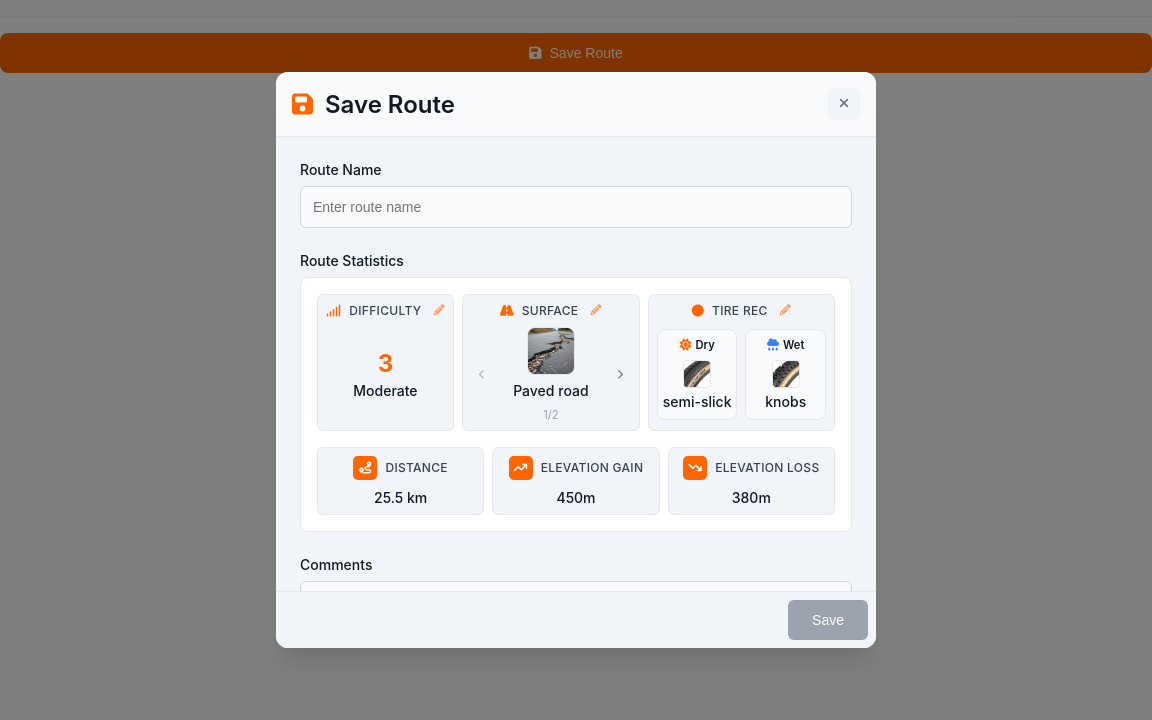
Test case: RouteSaveModal › Form Validation › should enable save button when route name is filled
Type "Test Route" into the field with id "route-name" at (576, 207), box [300,186,852,228]
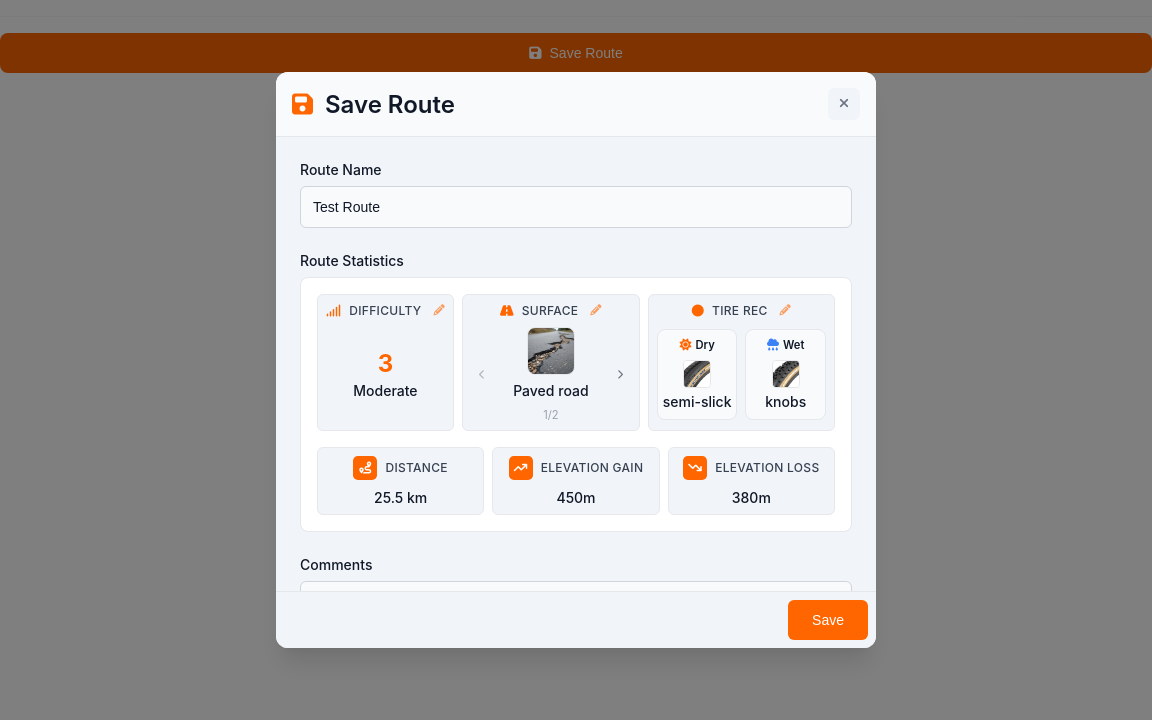
Expected: the button "Save" is enabled, [788,600,868,640]
